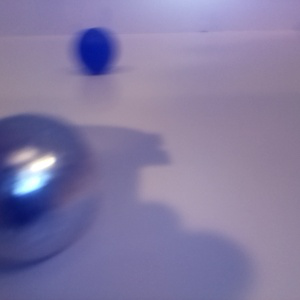alive_ball: (1, 113, 101, 267)
dead_ball: (73, 27, 114, 74)
